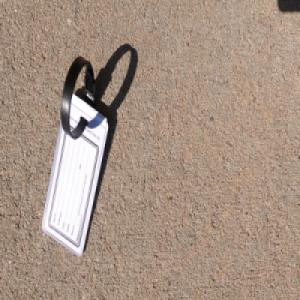LuggageTag: (41, 55, 110, 259)
